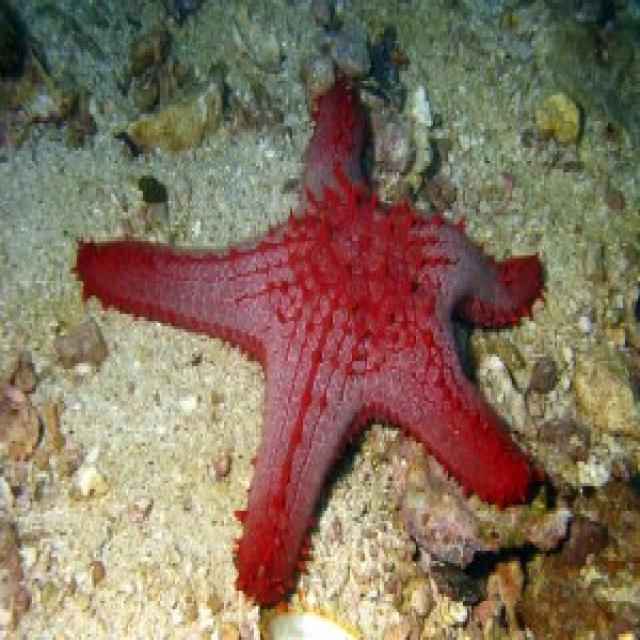Starfish: (73, 62, 550, 595)
